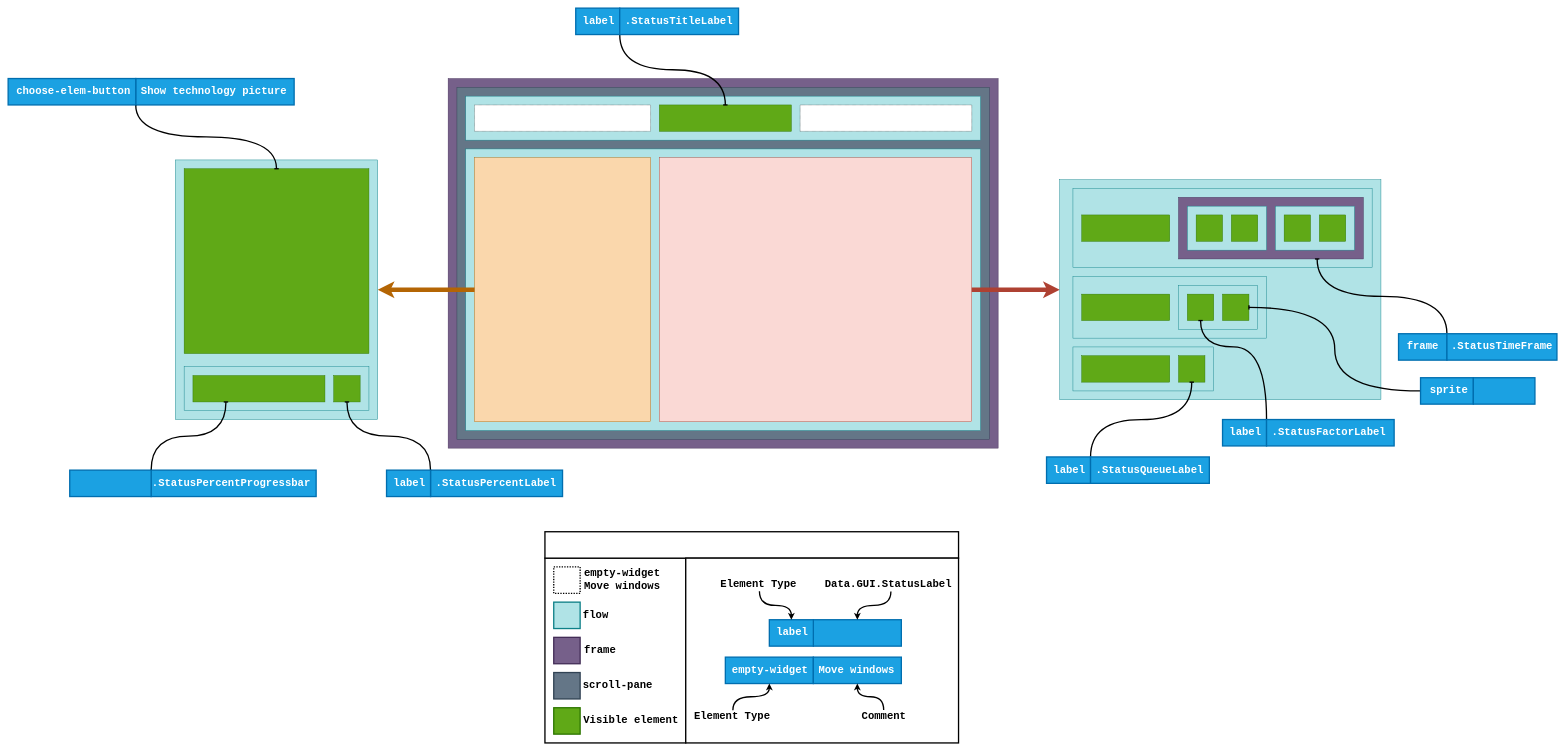
Image size: 1565x751. Some labels were removed from this diagram. The shapes that lost their labels are listed below. From the top down, each one's centre as x and y in pixels, then its label:
At (1503,391): "Show lab".
At (110,483): "progressbar".
At (751,545): "Symbols and meanings".
At (857,633): ".StatusLabel".
